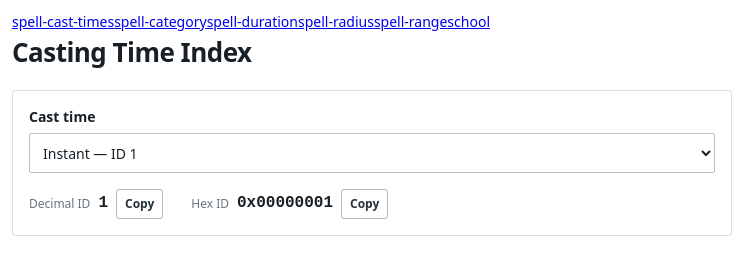
Scenario: DBC reference pages › spell-cast-times has one dropdown and displays the selected ID without a table
Select "Instant — ID 1" in the dropdown labelled "Cast time" at (372, 153), box [29, 133, 715, 173]
Check: the text named "Decimal ID" reads "1", box [98, 194, 108, 212]
Check: the text named "Hex ID" reads "0x00000001", box [237, 194, 333, 212]
Select "Instant — ID 191" in the dropdown labelled "Cast time" at (372, 153), box [29, 133, 715, 173]
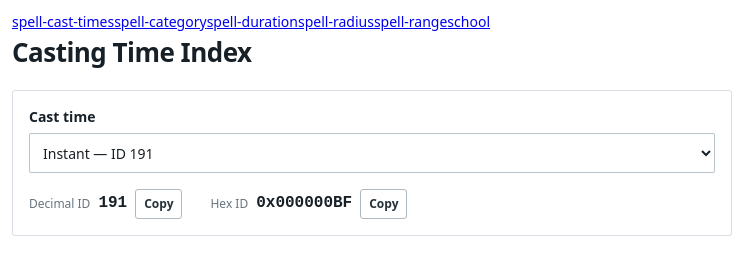
Check: the text named "Decimal ID" reads "191", box [98, 194, 127, 212]
